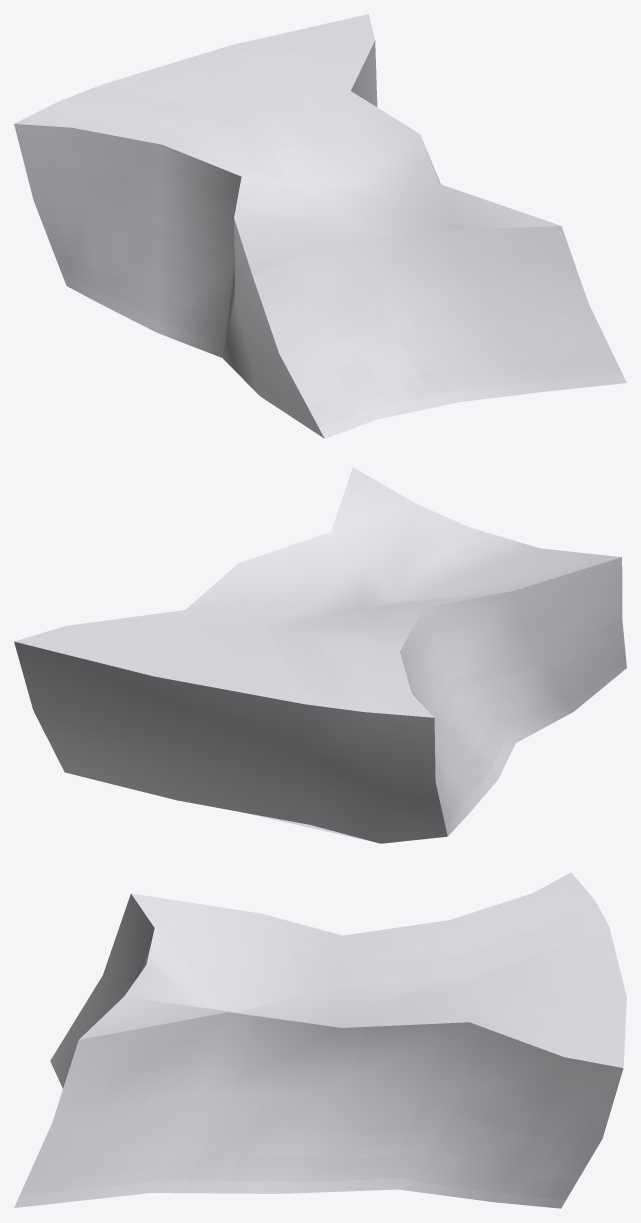
The model's file is SmallIce_O.fbx.
The picture shows the model from 3 angles, top to bottom: view 1: azimuth 30°, elevation 25°; view 2: azimuth 150°, elevation 25°; view 3: azimuth 270°, elevation 25°; orthographic projection. The views are drawn at different scales.
Visible parts, largest first — view 1: pCube2; view 2: pCube2; view 3: pCube2.
Boxes of the visible parts, <box> form: pCube2: <box>14,14,626,438</box>; pCube2: <box>14,467,626,843</box>; pCube2: <box>14,872,626,1208</box>.
Size of the model in its own units: 1.15 by 0.456 by 1.53.
1 material, 1 textured.
